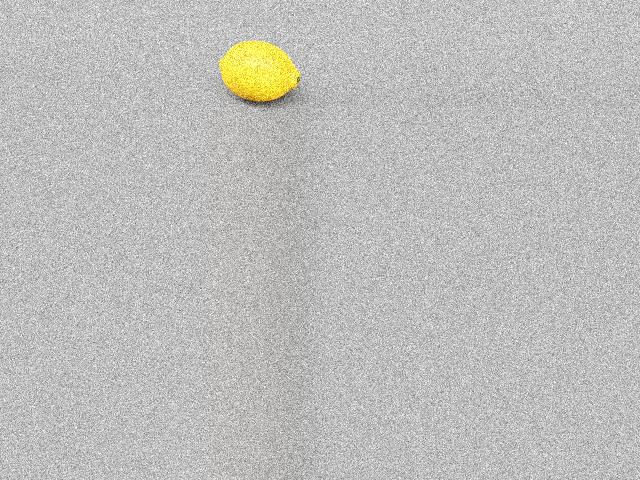lemon: (217, 36, 300, 100)
